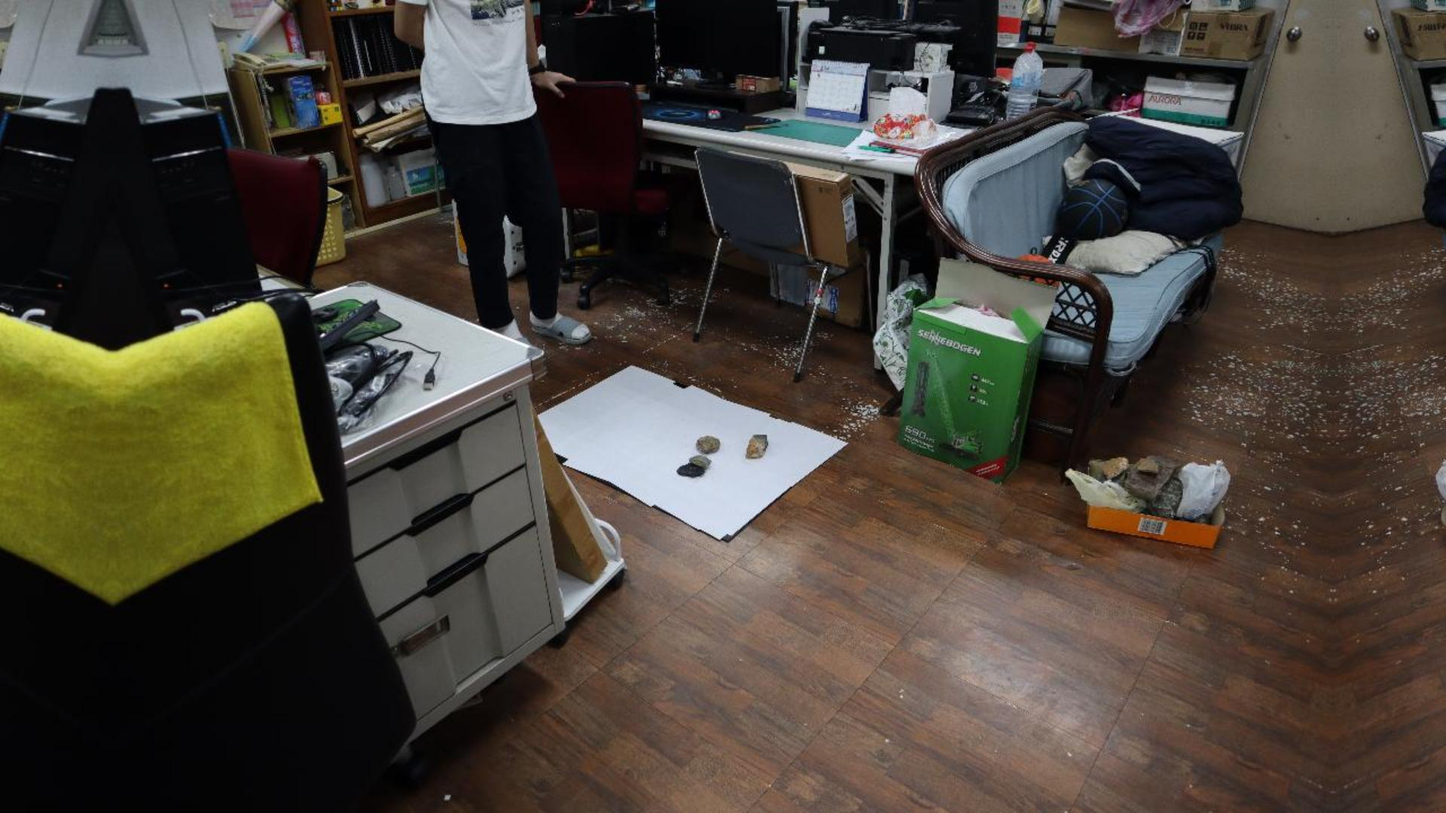rock: (1123, 457, 1178, 502), (744, 434, 767, 458), (676, 462, 704, 478), (696, 435, 720, 453), (689, 454, 711, 470)
